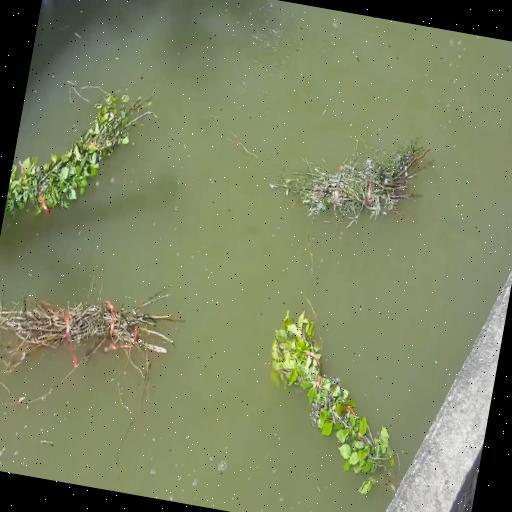twig: (236, 296, 426, 498), (7, 62, 150, 226), (0, 283, 181, 410), (268, 108, 430, 234)
